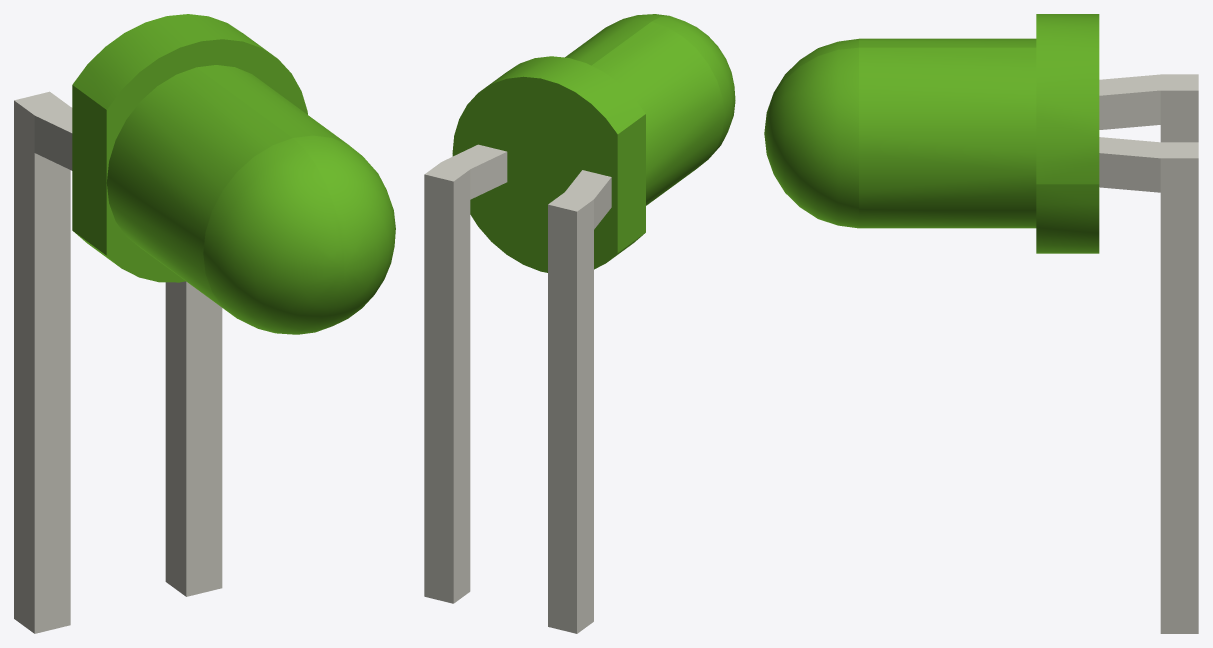
Rendered from kc-led_d3.0mm_horizontal_o1.27mm_z6.0mm.glb.
3 views of the same model, side by side, from view 1: azimuth 30°, elevation 25°; view 2: azimuth 150°, elevation 25°; view 3: azimuth 270°, elevation 25° (orthographic). The views are drawn at different scales.
Parts seen in each view (by area): view 1: 0.16666666666666666_0.4166666666666667_0_0, 0.6666666666666666_0.6666666666666666_0.5833333333333334_0.8; view 2: 0.6666666666666666_0.6666666666666666_0.5833333333333334_0.8, 0.16666666666666666_0.4166666666666667_0_0; view 3: 0.16666666666666666_0.4166666666666667_0_0, 0.6666666666666666_0.6666666666666666_0.5833333333333334_0.8.
Boxes of the visible parts, <box> form: 0.16666666666666666_0.4166666666666667_0_0: <box>72,14,395,334</box>; 0.6666666666666666_0.6666666666666666_0.5833333333333334_0.8: <box>14,91,222,633</box>; 0.6666666666666666_0.6666666666666666_0.5833333333333334_0.8: <box>424,144,611,633</box>; 0.16666666666666666_0.4166666666666667_0_0: <box>452,14,735,272</box>; 0.16666666666666666_0.4166666666666667_0_0: <box>764,14,1099,253</box>; 0.6666666666666666_0.6666666666666666_0.5833333333333334_0.8: <box>1099,74,1198,633</box>.
Bounding box in the file's own units: 0.347 × 0.9898 × 0.687.
